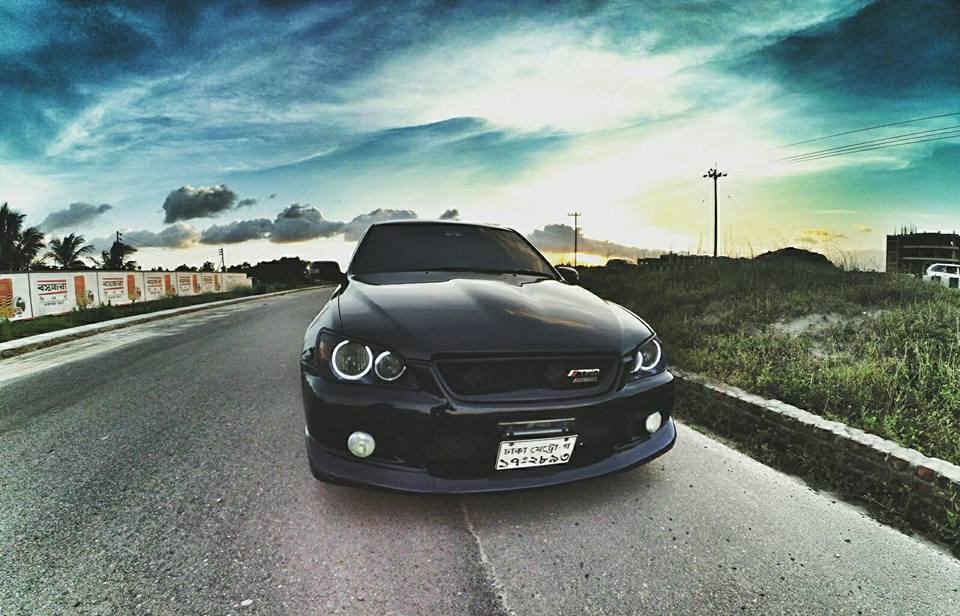registration_plate: (497, 436, 577, 469)
